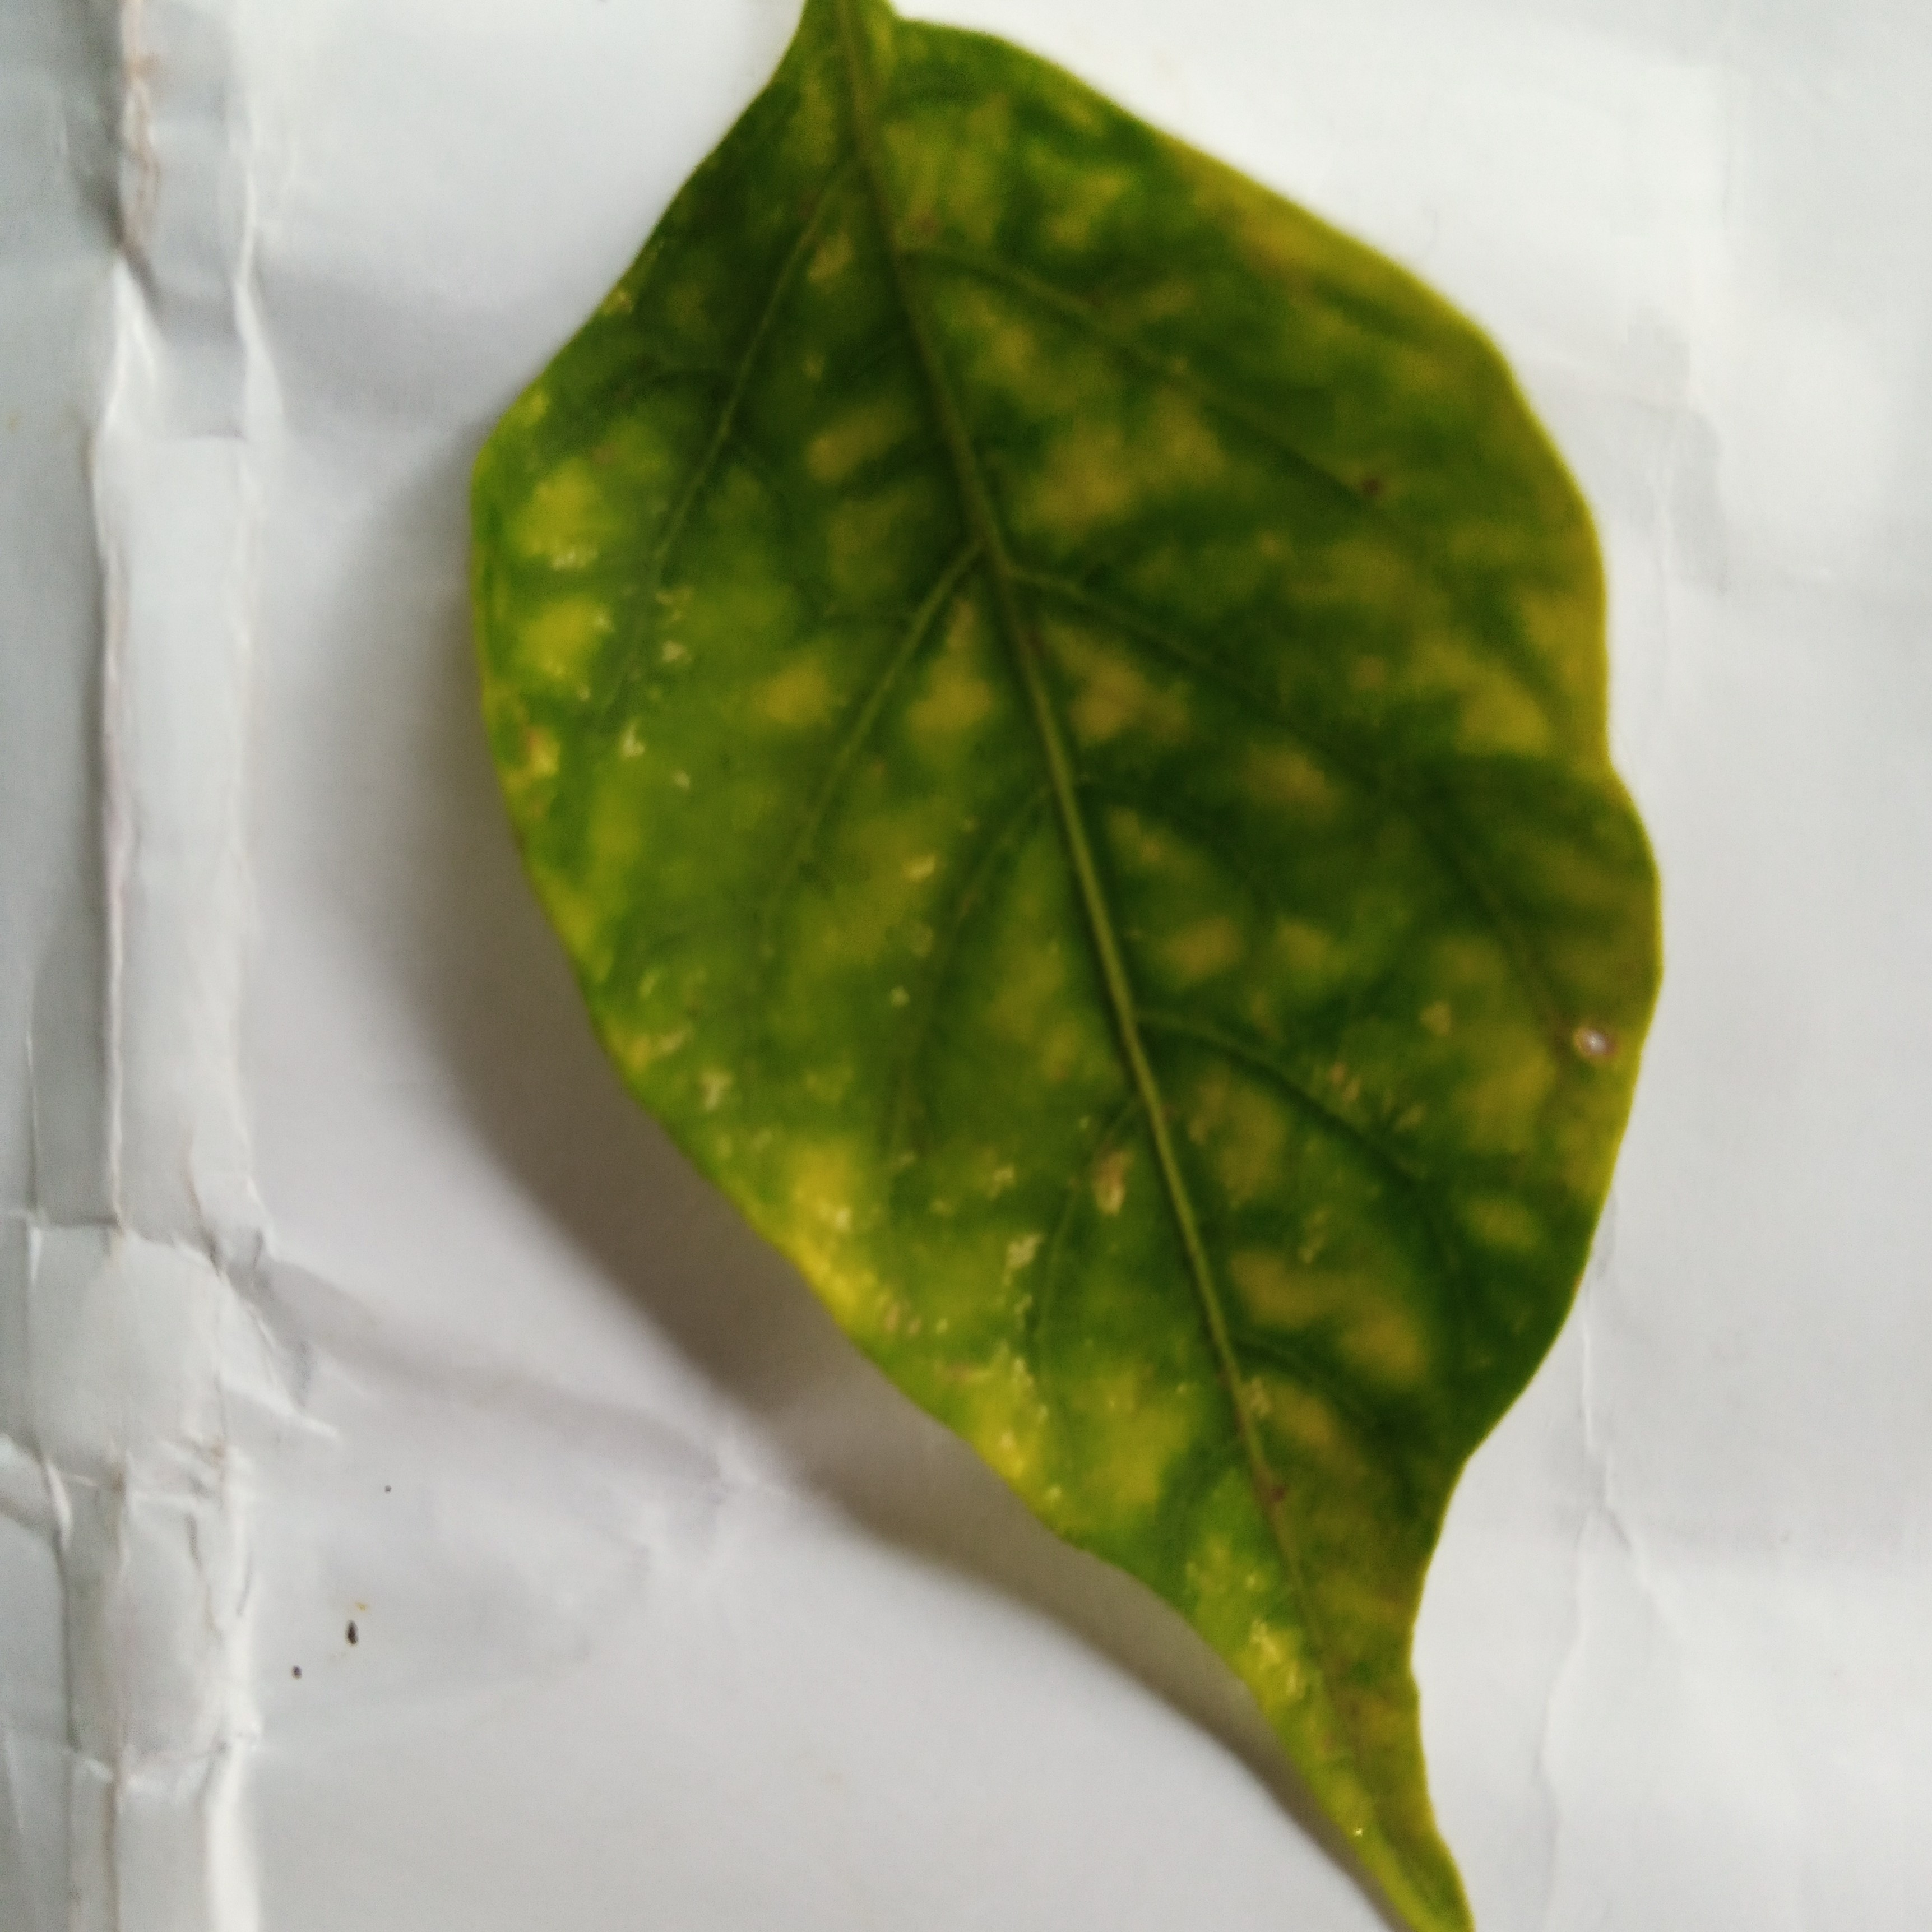Leaf: (352, 2, 1810, 1932)
